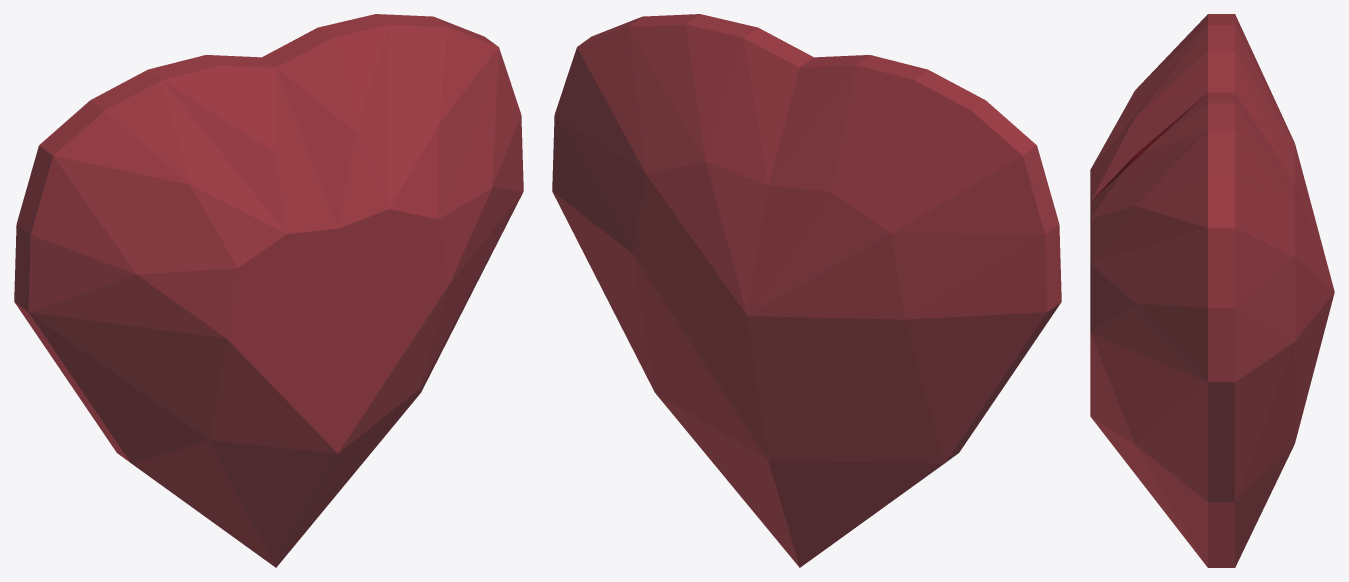
File: cut-ruby-3ded3a.glb
3 views of the same model, side by side, from view 1: azimuth 30°, elevation 25°; view 2: azimuth 150°, elevation 25°; view 3: azimuth 270°, elevation 25° (orthographic). The views are drawn at different scales.
Visible parts, largest first — view 1: gem; view 2: gem; view 3: gem.
Part boxes in pixels (x1,y1,x2,y2): gem: [14, 14, 523, 567]; gem: [552, 14, 1061, 567]; gem: [1090, 14, 1334, 567].
Size of the model in its own units: 0.12 by 0.1195 by 0.054.
